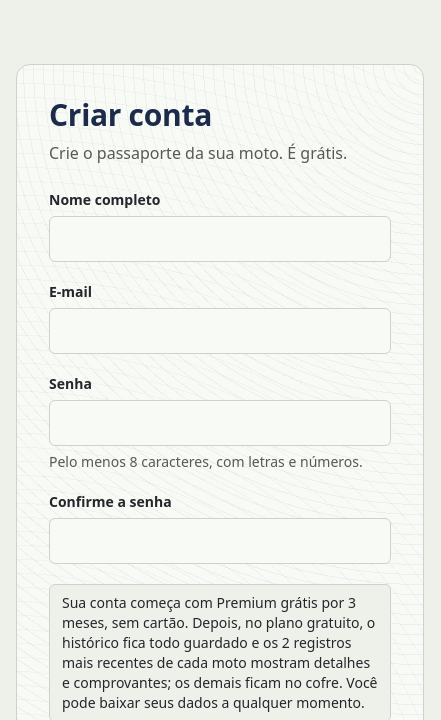
Test: SignUpPage › não envia sem aceitar os termos e mostra o motivo
Type "Ana Souza" into the field labelled "Nome completo". click: (220, 239)
box: [49,216,391,262]
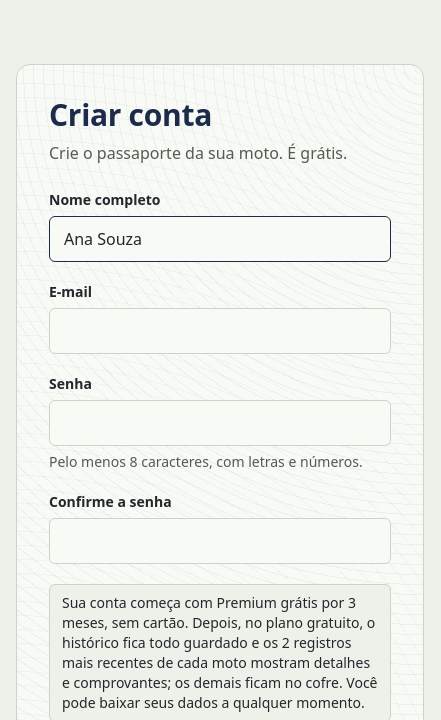
Type "ana@exemplo.com" into the field labelled "E-mail". click: (220, 331)
box: [49,308,391,354]
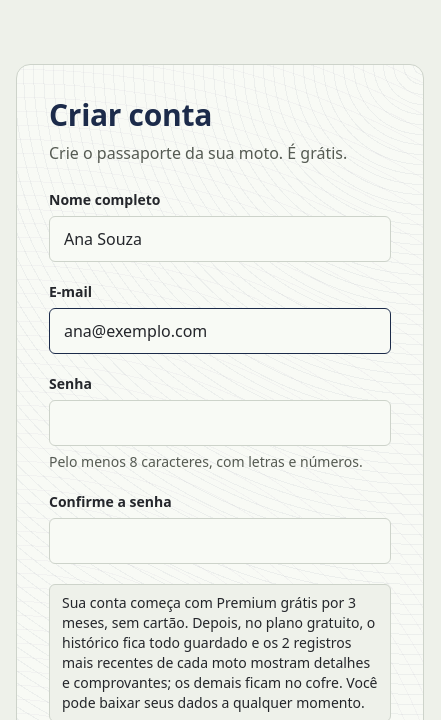
Type "senha1234" into the password field labelled "Senha". click: (220, 423)
box: [49,400,391,446]
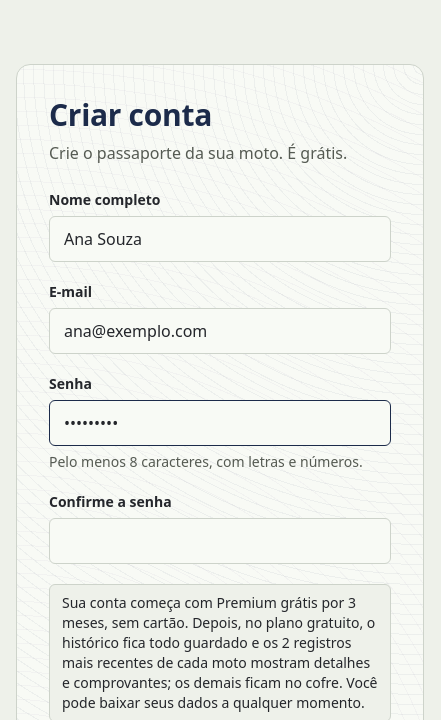
Type "senha1234" into the password field labelled "Confirme a senha". click: (220, 541)
box: [49,518,391,564]
(page scrolled)
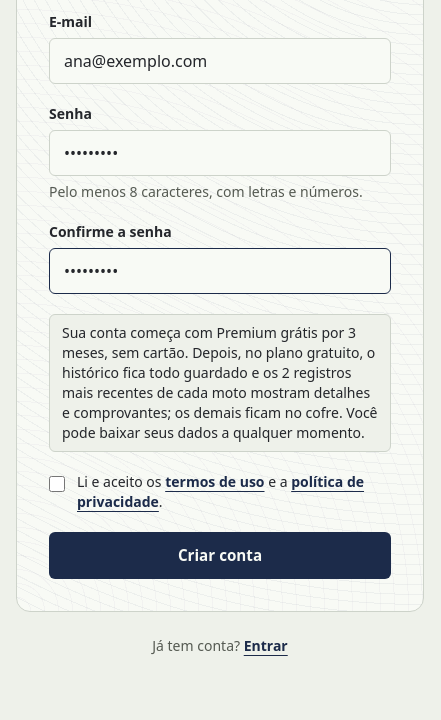
Click the button "Criar conta". click: (220, 556)
box: [49,532,391,579]
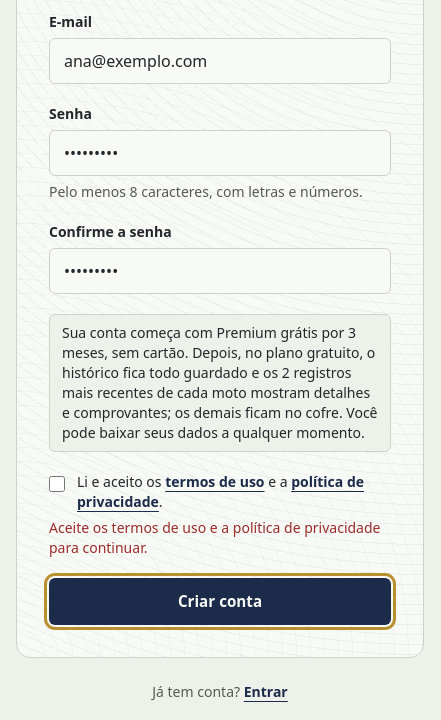
Now the text "Aceite os termos de uso" is shown, box [49,518,380,557]
